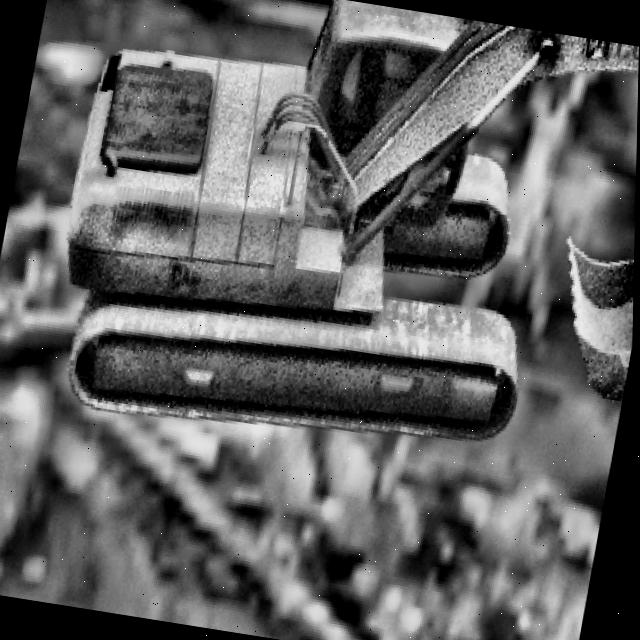excavator: (33, 0, 640, 489)
